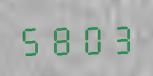eight: (47, 20, 75, 56)
five: (18, 21, 46, 56)
three: (105, 19, 133, 54)
zero: (76, 19, 104, 55)
